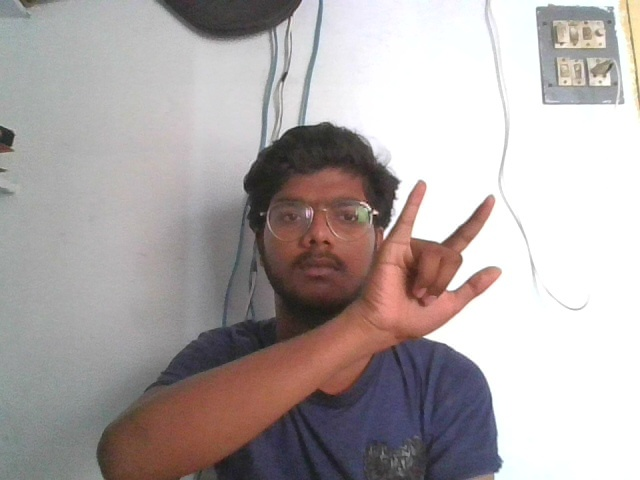IloveYou: (355, 169, 504, 345)
